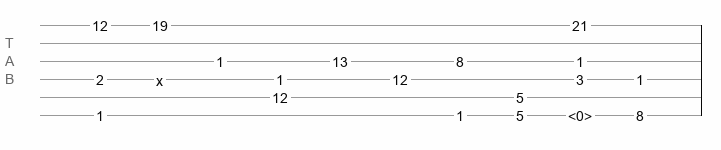1: (96, 108, 104, 118), (216, 54, 224, 64), (276, 72, 284, 82), (456, 108, 464, 118), (576, 54, 584, 64), (636, 72, 644, 82)
12: (92, 18, 108, 28), (272, 90, 288, 100), (392, 72, 408, 82)
13: (332, 54, 348, 64)
19: (152, 18, 168, 28)
2: (96, 72, 104, 82)
21: (572, 18, 588, 28)
3: (576, 72, 584, 82)
5: (516, 90, 524, 100), (516, 108, 524, 118)
8: (456, 54, 464, 64), (636, 108, 644, 118)
harmonic: (568, 108, 592, 118)
x: (156, 73, 163, 81)
